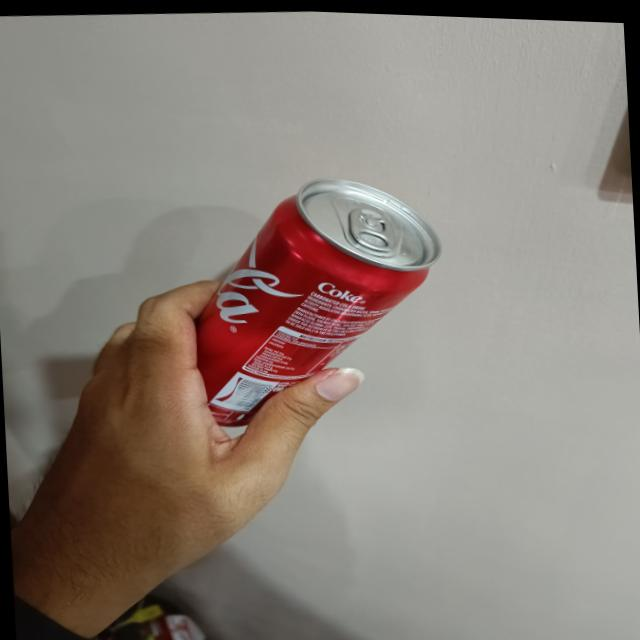coke: (168, 165, 448, 435)
